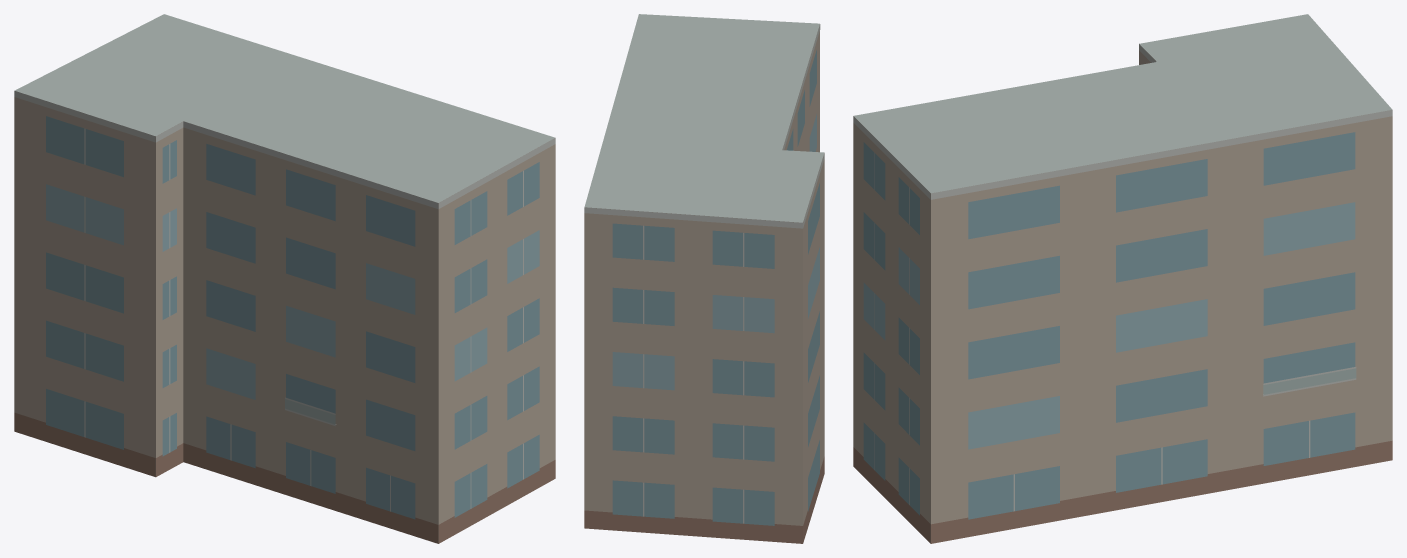
Rendered from survey-upis-32680556.glb.
3 views of the same model, side by side, from view 1: azimuth 30°, elevation 25°; view 2: azimuth 150°, elevation 25°; view 3: azimuth 270°, elevation 25° (orthographic). The views are drawn at different scales.
Parts seen in each view (by area): view 1: survey-upis-32680556.tmp; view 2: survey-upis-32680556.tmp; view 3: survey-upis-32680556.tmp.
Part boxes in pixels (bbox=[...]): survey-upis-32680556.tmp: bbox=[14, 14, 555, 543]; survey-upis-32680556.tmp: bbox=[584, 14, 824, 543]; survey-upis-32680556.tmp: bbox=[853, 14, 1392, 543].
Bounding box in the file's own units: 14.61 × 13.3 × 18.56.
